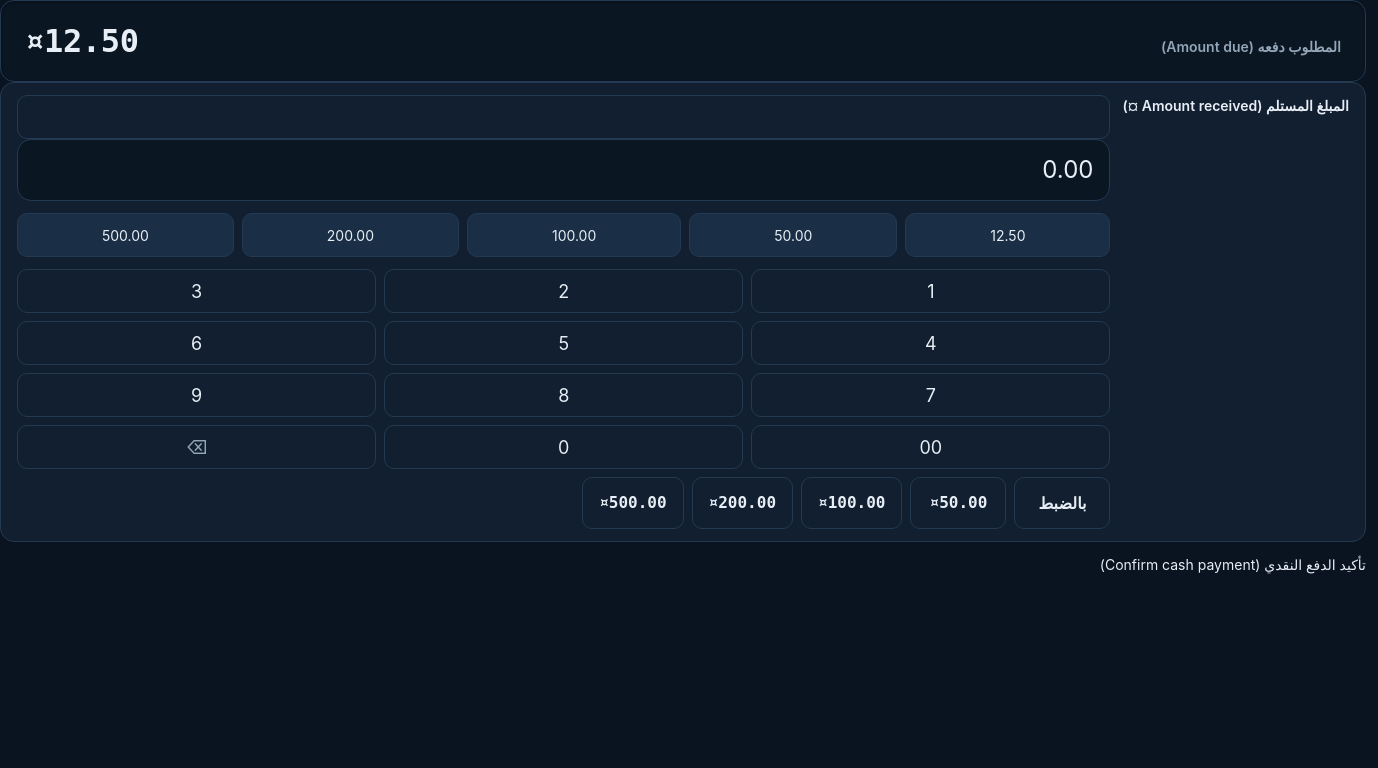
CashEntry — v3.5 visual recompose (amount-due-card, tender-rows) › change-due row (tender-row--totals) shows MoneyRoll when overpaid
The image size is (1378, 768).
// Enter 15.00 (overpays by 2.50)
In the field with test id "cash-entry-amount-input": (564, 117) [17,95,1110,139], type "15.00"
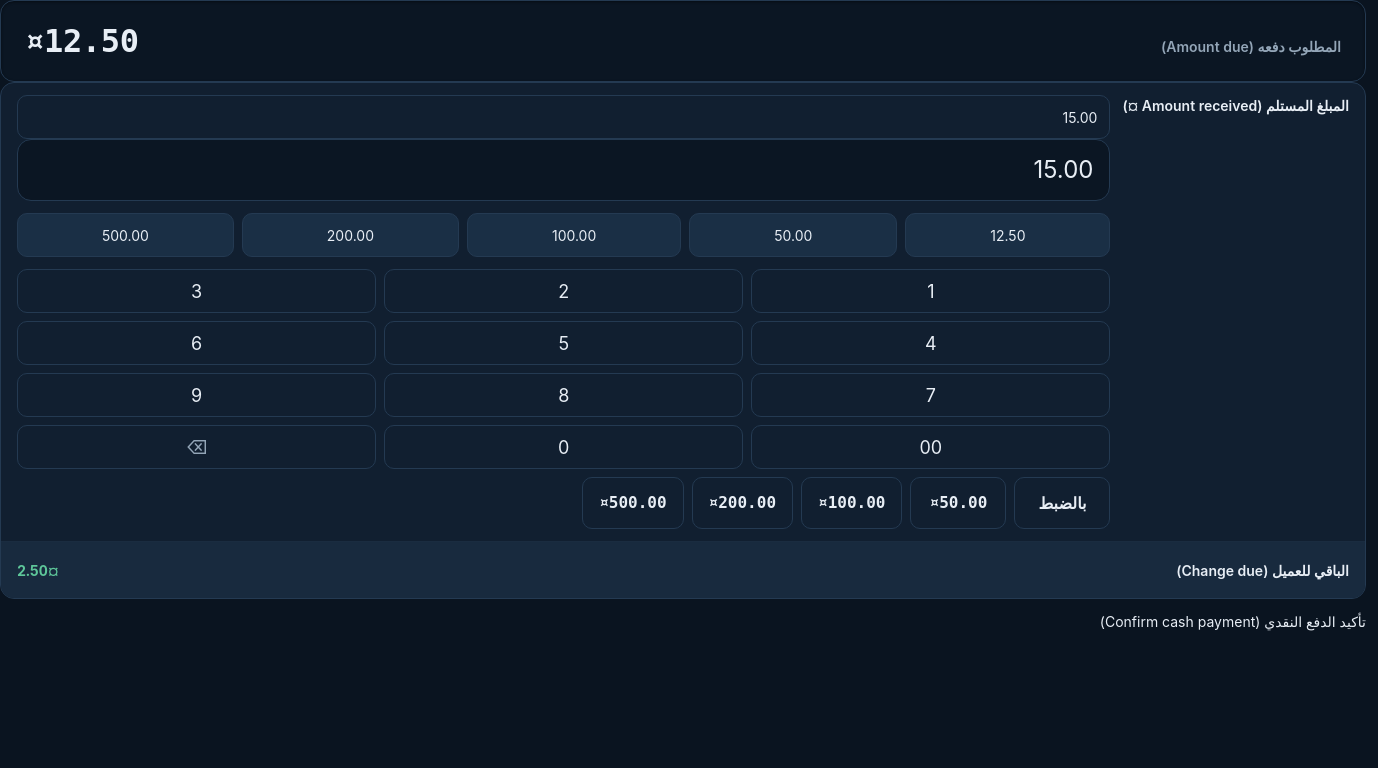
Result: the element with class "tender-row--totals" is shown at [1,542,1365,598]
Result: the text "2.50" is shown at [17,560,48,580]
